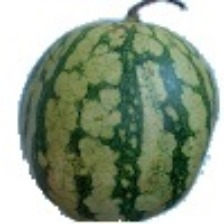watermelon: (0, 43, 200, 212)
